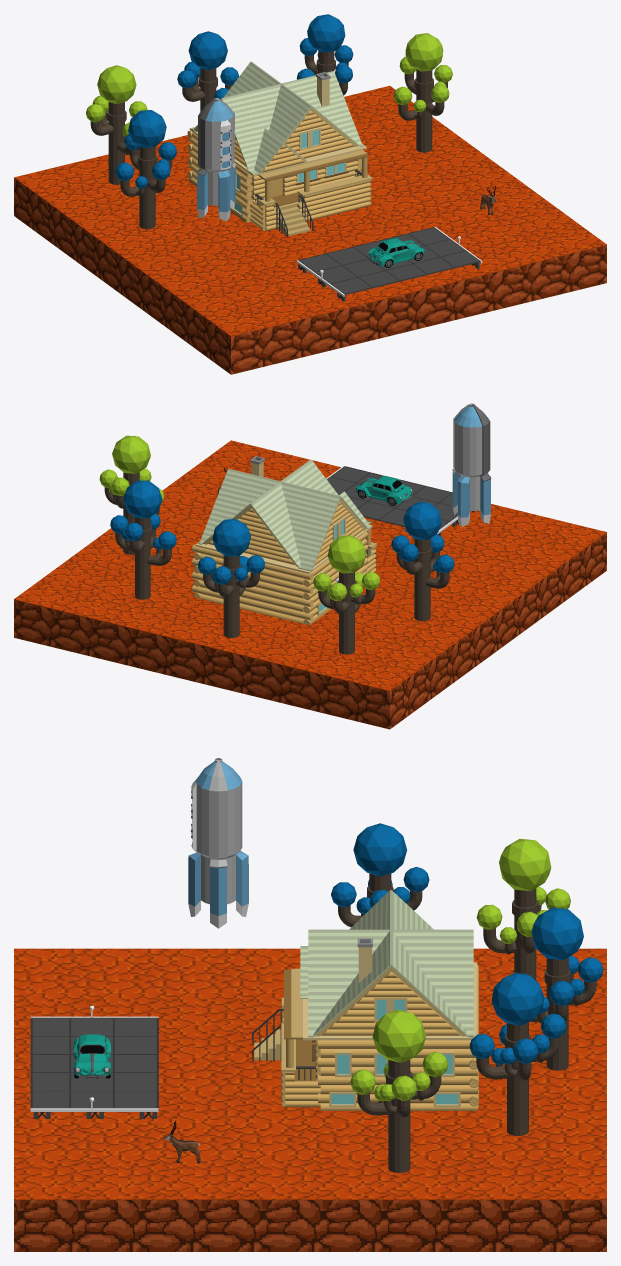
3 renders of one model, top to bottom at view 1: azimuth 30°, elevation 25°; view 2: azimuth 150°, elevation 25°; view 3: azimuth 270°, elevation 25°, orthographic. The views are drawn at different scales.
Visible parts, largest first — view 1: Cube.001, Cube.1516, OBJRANDOM_ROCKETSHIP, VEHICLES_VOLKSWAGEN; view 2: Cube.001, Cube.1516, OBJRANDOM_ROCKETSHIP, VEHICLES_VOLKSWAGEN; view 3: Cube.001, Cube.1516, OBJRANDOM_ROCKETSHIP, VEHICLES_VOLKSWAGEN.
Part boxes in pixels (x1,y1,x2,y2): Cube.001: [14, 14, 606, 374]; Cube.1516: [187, 61, 372, 237]; OBJRANDOM_ROCKETSHIP: [197, 98, 235, 221]; VEHICLES_VOLKSWAGEN: [367, 237, 424, 267]; Cube.001: [14, 435, 606, 729]; Cube.1516: [192, 456, 377, 625]; OBJRANDOM_ROCKETSHIP: [452, 403, 491, 526]; VEHICLES_VOLKSWAGEN: [355, 475, 413, 505]; Cube.001: [14, 823, 606, 1251]; Cube.1516: [252, 890, 478, 1110]; OBJRANDOM_ROCKETSHIP: [188, 758, 248, 928]; VEHICLES_VOLKSWAGEN: [73, 1034, 110, 1078].
Bounding box in the file's own units: 4000 × 2277 × 4000.
38 materials, 5 textured.
